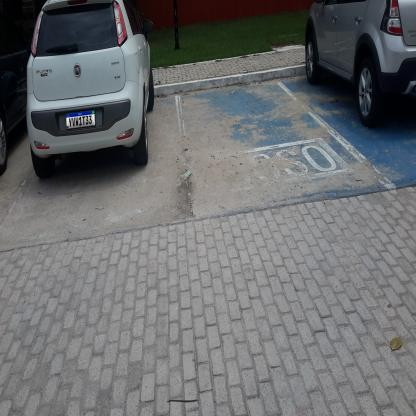PlacaM: (66, 109, 96, 130)
